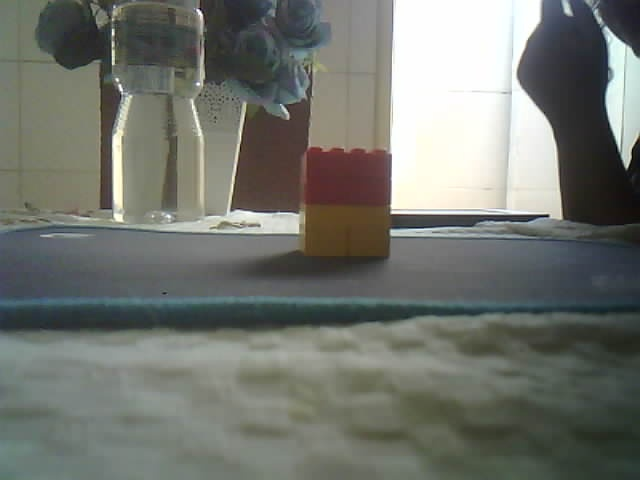lego: (297, 146, 393, 259)
